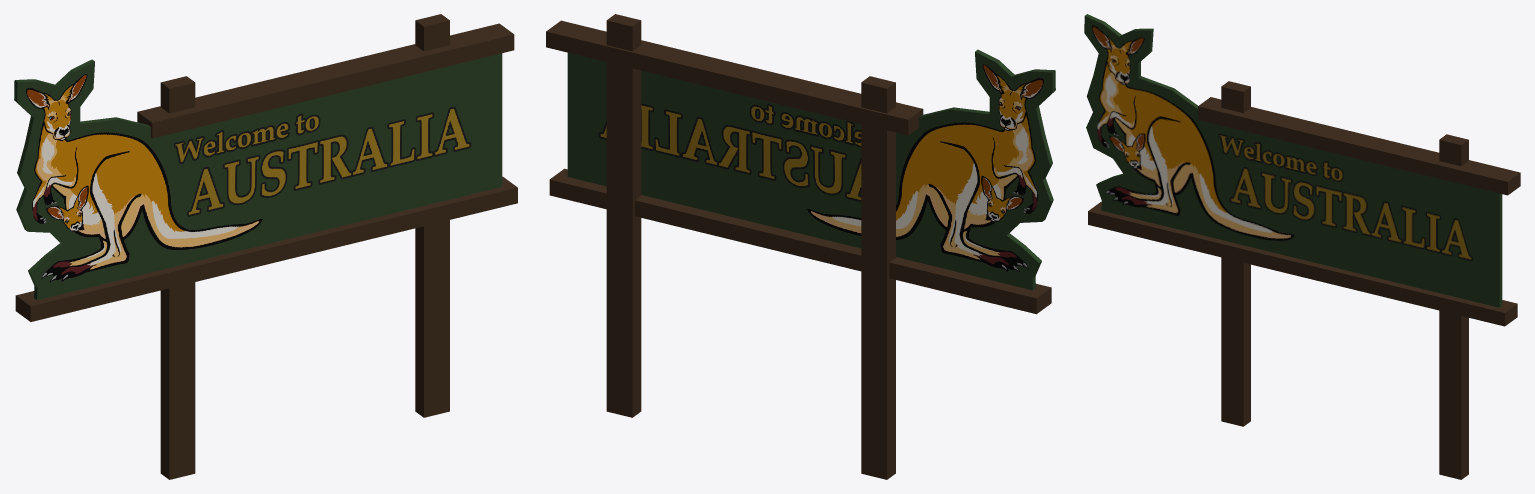
File: australiasign.fbx
3 renders of one model, left to right at view 1: azimuth 30°, elevation 25°; view 2: azimuth 150°, elevation 25°; view 3: azimuth 330°, elevation 25°, orthographic. The views are drawn at different scales.
Visible parts, largest first — view 1: pCube7; view 2: pCube7; view 3: pCube7.
Part boxes in pixels (x1,y1,x2,y2): pCube7: (14, 14, 517, 479); pCube7: (546, 14, 1055, 479); pCube7: (1084, 14, 1520, 479).
Size of the model in its own units: 1.8 by 1.52 by 0.1154.
